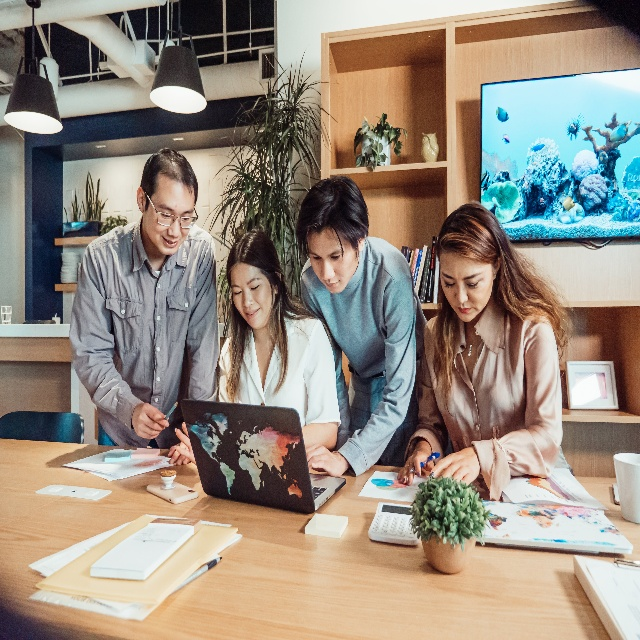Gafas: (145, 191, 198, 229)
Sin_guantes: (429, 445, 479, 486), (396, 444, 435, 486), (131, 401, 170, 440), (306, 442, 342, 477), (175, 422, 196, 463), (168, 443, 190, 466)
